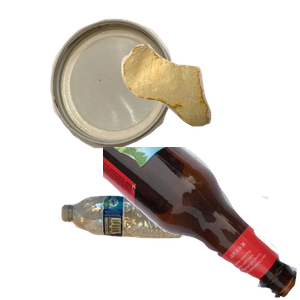glass: (103, 147, 300, 300)
metal: (47, 16, 214, 157)
plastic: (59, 193, 241, 300)
trash: (119, 42, 300, 161)
